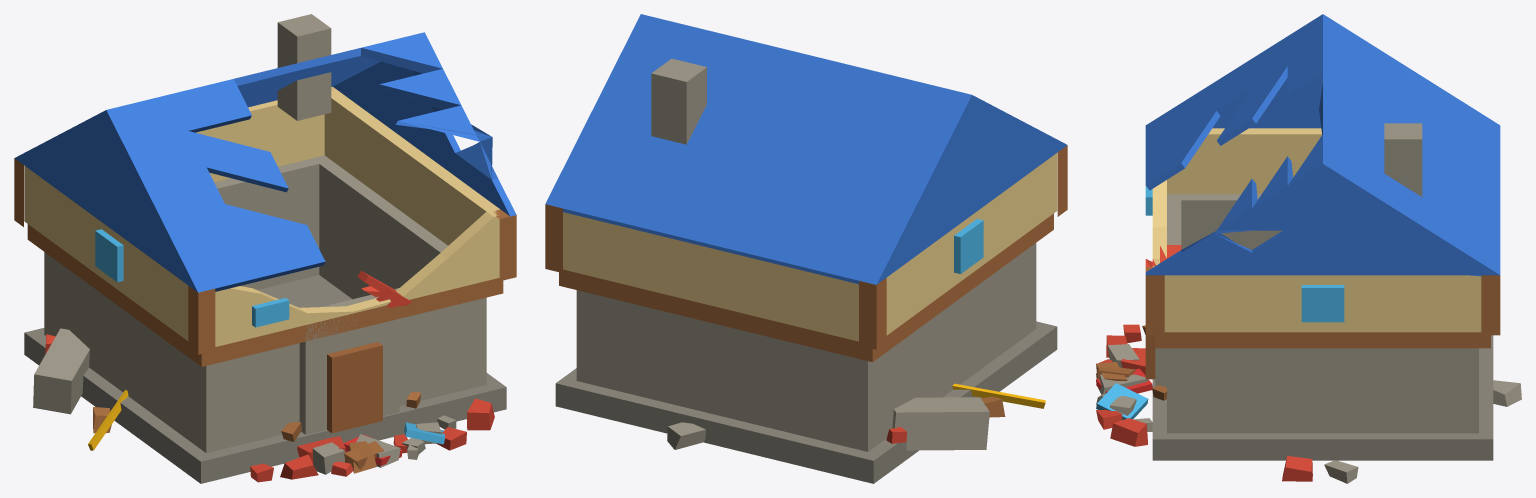
The model's file is house_t3_v4_dmg1.glb.
3 views of the same model, side by side, from view 1: azimuth 30°, elevation 25°; view 2: azimuth 150°, elevation 25°; view 3: azimuth 270°, elevation 25° (orthographic). The views are drawn at different scales.
Parts seen in each view (by area): view 1: house_t3_v4_dmg1; view 2: house_t3_v4_dmg1; view 3: house_t3_v4_dmg1.
Boxes of the visible parts, <box> form: house_t3_v4_dmg1: <box>14,14,516,483</box>; house_t3_v4_dmg1: <box>545,14,1067,483</box>; house_t3_v4_dmg1: <box>1096,14,1521,483</box>.
Size of the model in its own units: 0.9579 by 0.7 by 0.9007.
Materials: 1 (1 with a texture image).
